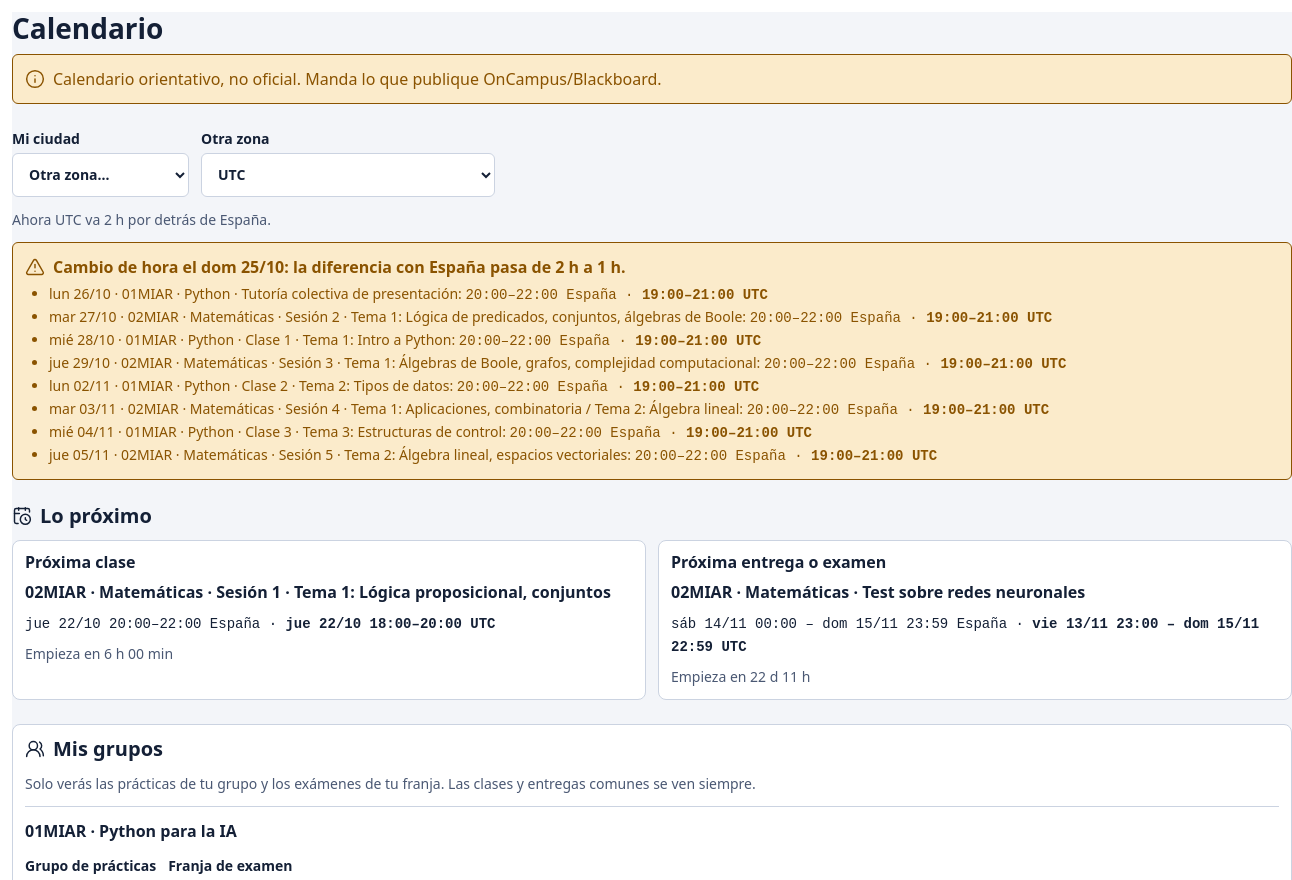
Test: CalendarPage › muestra el aviso, lo próximo y la hora de España y la tuya
Expected: the text "Calendario orientativo, no oficial. Manda lo que publique OnCampus/Blackboard." is shown, [53,67,662,91]
Select "Bogotá" in the dropdown labelled "Mi ciudad" at [100, 175], box [12,153,189,197]
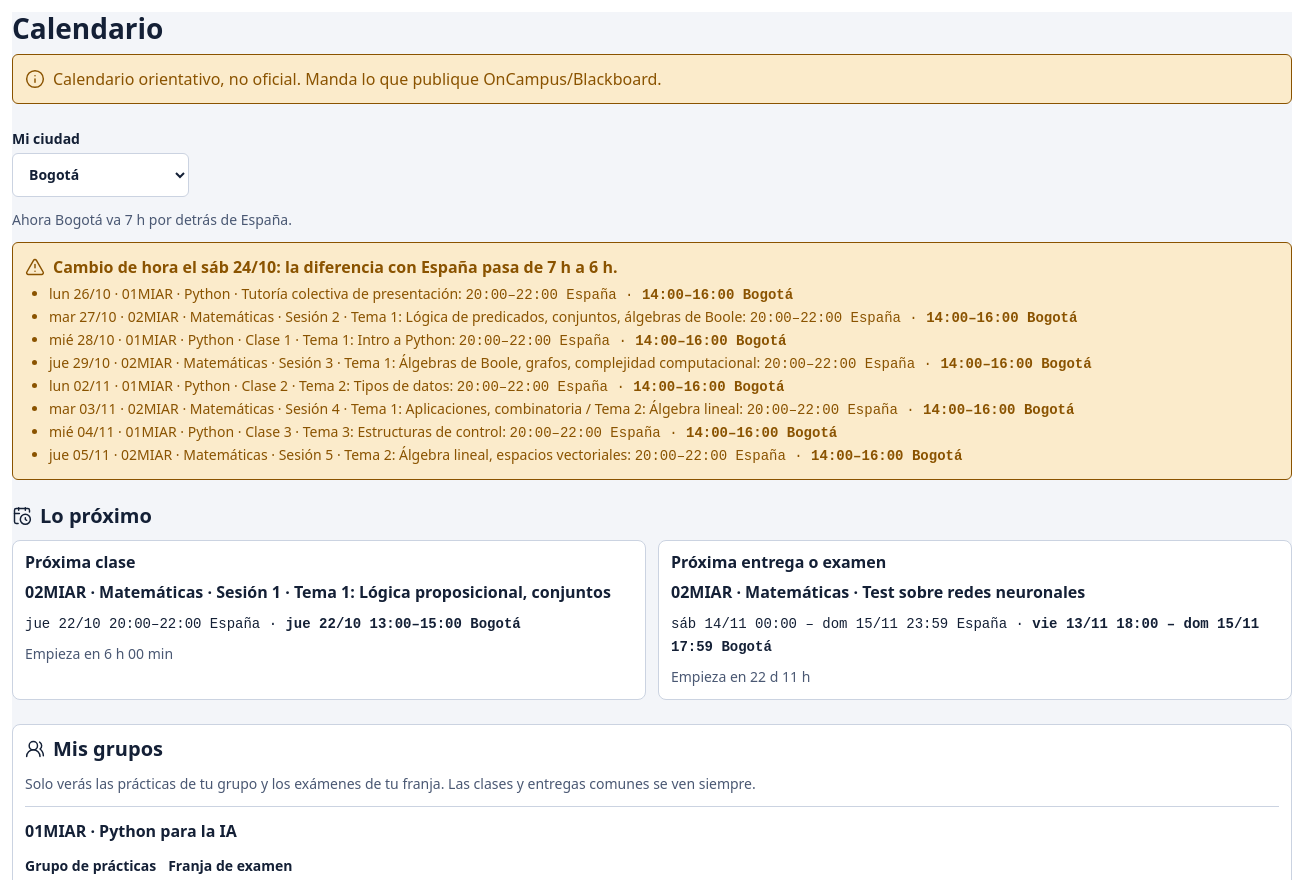
Expected: the heading "Próxima clase" is shown, [25,551,135,573]
Expected: the text "jue 22/10 13:00–15:00 Bogotá" is shown, [286,616,521,632]
